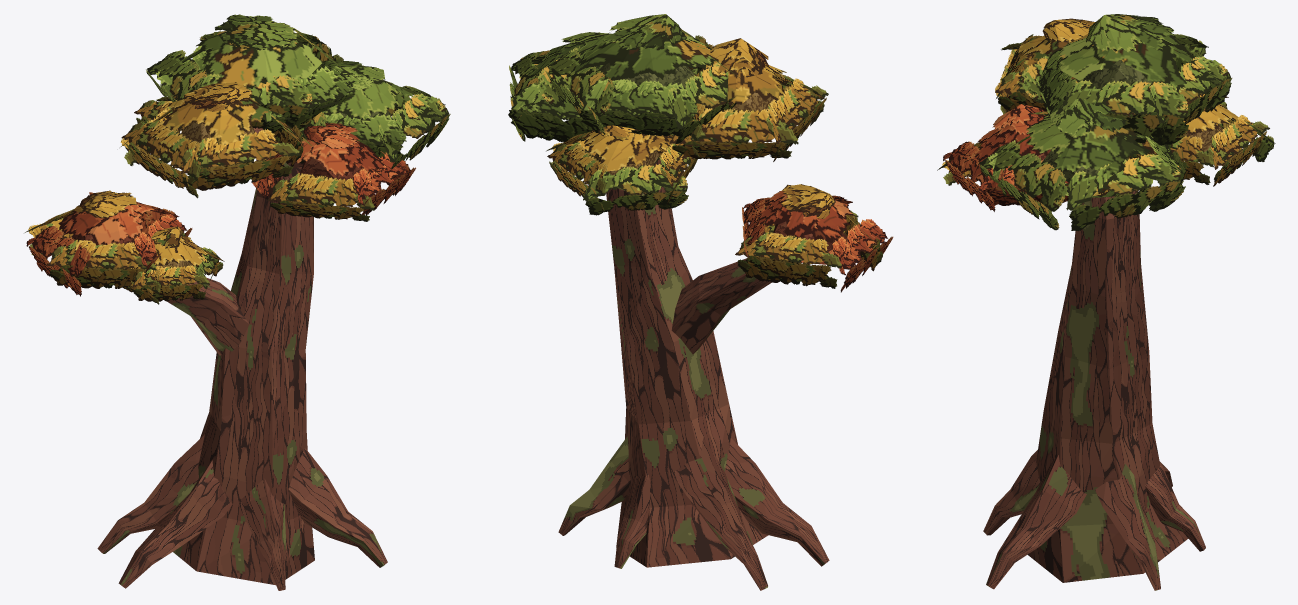
File: SM_TR03_DoubleFork.fbx
3 views of the same model, side by side, from view 1: azimuth 30°, elevation 25°; view 2: azimuth 150°, elevation 25°; view 3: azimuth 270°, elevation 25° (orthographic). The views are drawn at different scales.
Parts seen in each view (by area): view 1: TR03_Crown, TR03_Bark; view 2: TR03_Crown, TR03_Bark; view 3: TR03_Crown, TR03_Bark.
Part boxes in pixels (x1,y1,x2,y2): TR03_Crown: (25, 14, 450, 304); TR03_Bark: (97, 127, 387, 590); TR03_Crown: (508, 14, 893, 292); TR03_Bark: (558, 159, 829, 590); TR03_Crown: (937, 14, 1275, 231); TR03_Bark: (983, 116, 1205, 590).
Bounding box in the file's own units: 5.97 × 7.47 × 4.38.
